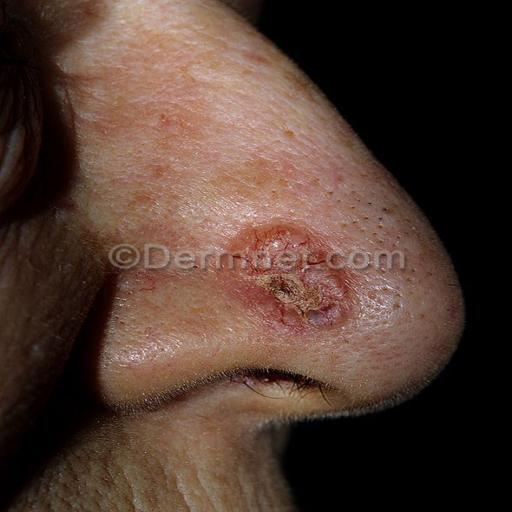Skin_Lesion: (208, 218, 372, 326)
